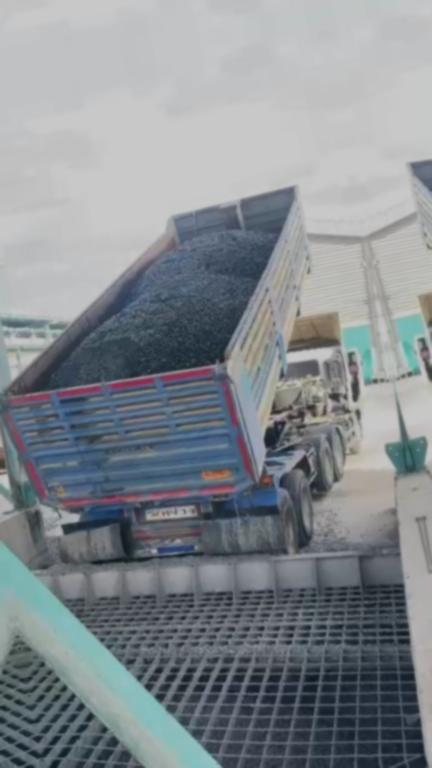gravel: (50, 230, 276, 389)
